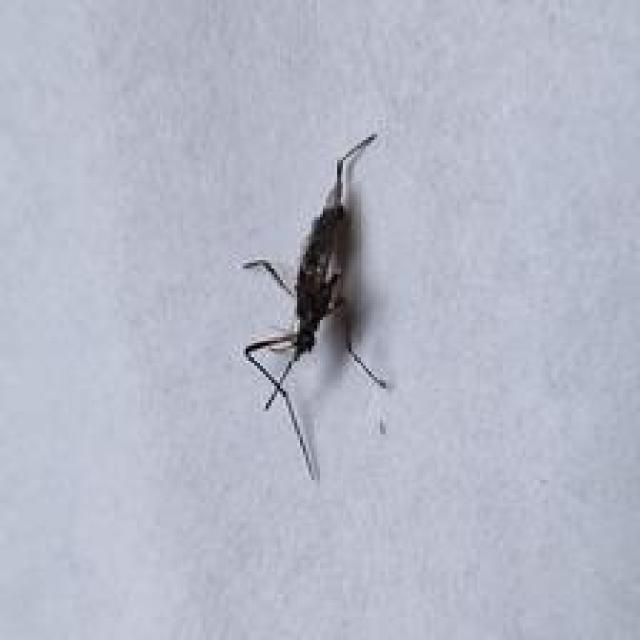Aedes albopictus: (240, 130, 391, 481)
